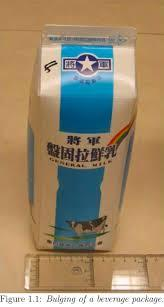cardboard: (24, 22, 139, 252)
